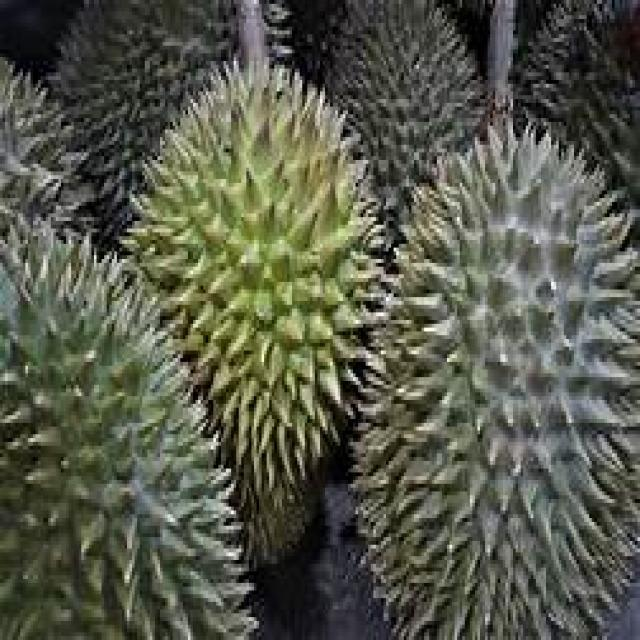immature: (357, 120, 640, 639), (113, 56, 383, 560)
